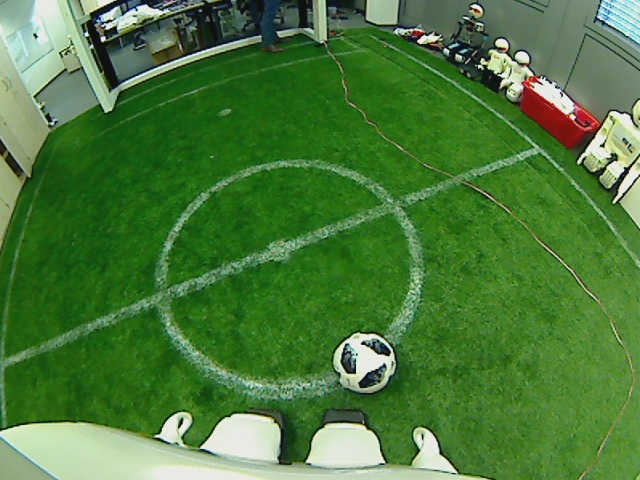ball: (330, 327, 398, 394)
